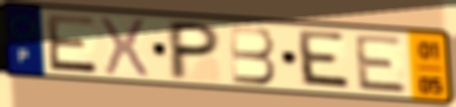B: (226, 24, 279, 87)
E: (352, 32, 411, 95), (298, 28, 355, 93), (44, 12, 100, 76)
P: (167, 18, 224, 82)
X: (98, 14, 151, 80)
